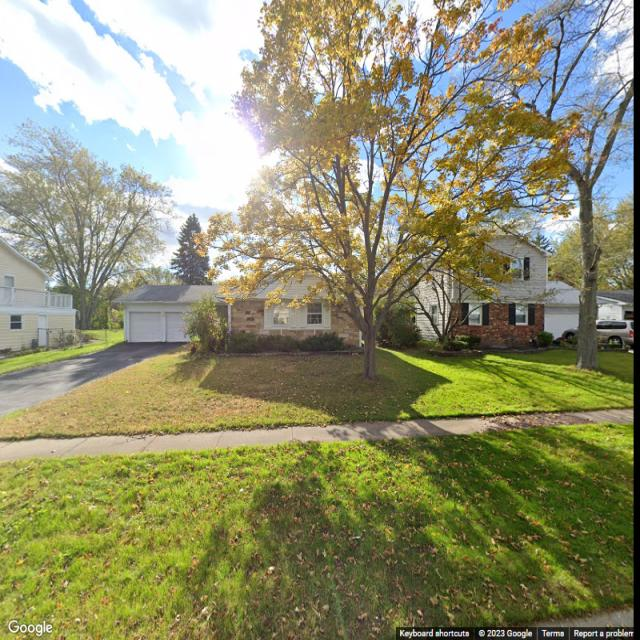House: (111, 261, 364, 346), (404, 227, 580, 345), (0, 230, 78, 350), (596, 291, 638, 321)
